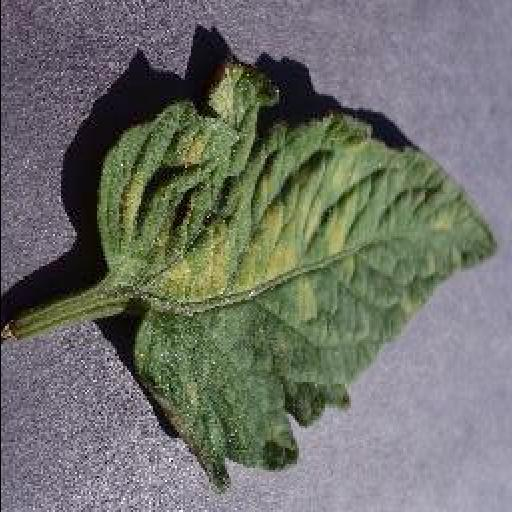disease_tomato: (92, 62, 498, 492)
